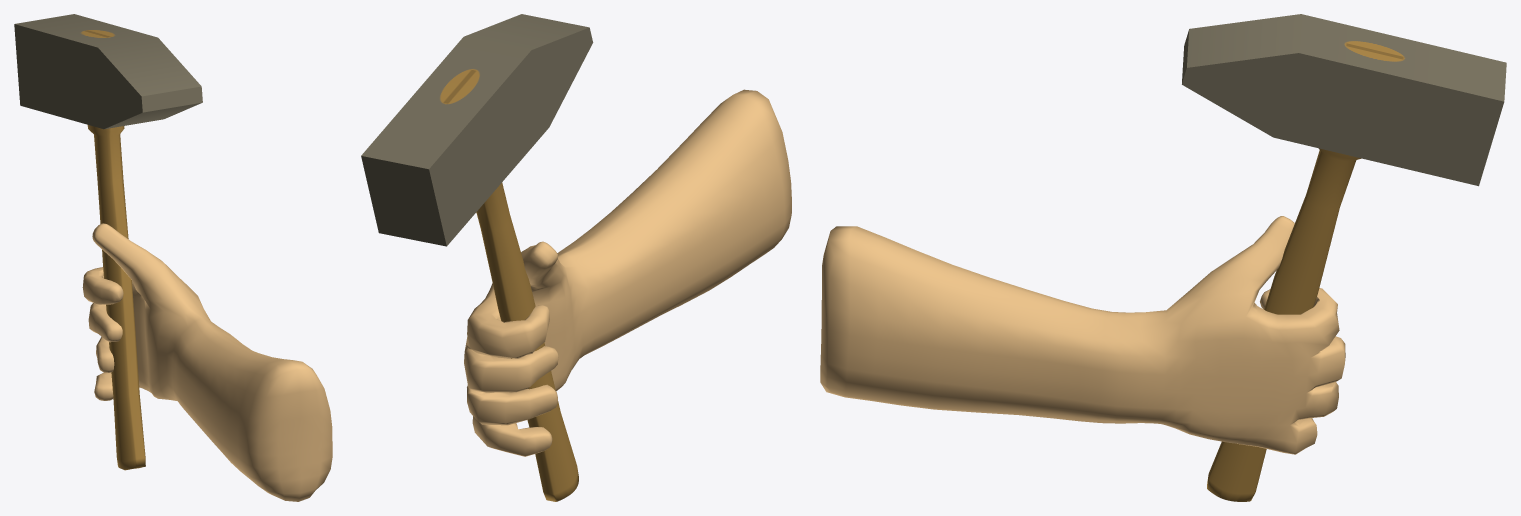
Rendered from test_hand_with_new_hammer_R.fbx.
The picture shows the model from 3 angles, left to right: view 1: azimuth 30°, elevation 25°; view 2: azimuth 150°, elevation 25°; view 3: azimuth 270°, elevation 25°; orthographic projection. The views are drawn at different scales.
Parts seen in each view (by area): view 1: pCube1, pasted__pasted__pCube3; view 2: pCube1, pasted__pasted__pCube3; view 3: pCube1, pasted__pasted__pCube3.
Part boxes in pixels (bbox=[...]): pCube1: bbox=[82, 223, 332, 501]; pasted__pasted__pCube3: bbox=[14, 14, 202, 470]; pCube1: bbox=[464, 89, 791, 456]; pasted__pasted__pCube3: bbox=[361, 14, 593, 501]; pCube1: bbox=[820, 216, 1345, 454]; pasted__pasted__pCube3: bbox=[1182, 14, 1506, 501].
Size of the model in its own units: 2.77 by 10.57 by 13.63.
Materials: 2 (2 with a texture image).
